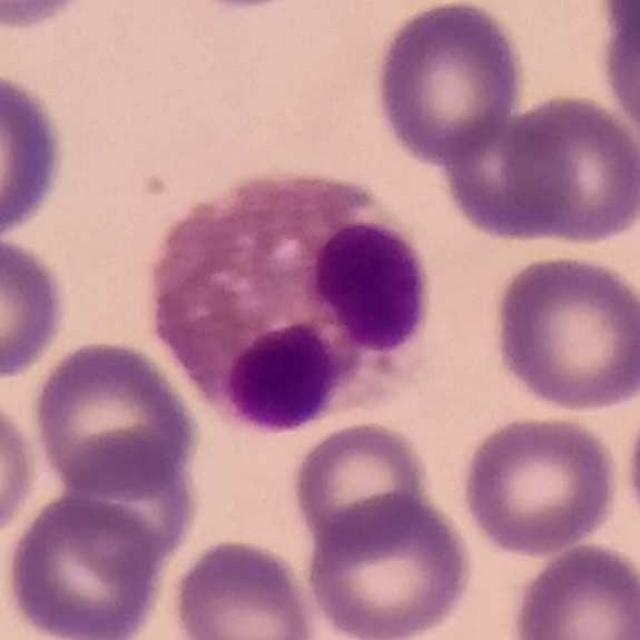Eosinophil: (146, 170, 428, 421)
RBC: (28, 335, 202, 500), (368, 0, 529, 167), (300, 489, 476, 640), (487, 249, 640, 416), (2, 489, 169, 640), (456, 411, 624, 558), (287, 416, 434, 556), (61, 432, 201, 575), (521, 95, 640, 253), (448, 110, 576, 240), (166, 534, 322, 640), (505, 538, 639, 640), (0, 64, 71, 245), (0, 231, 72, 384), (593, 0, 639, 152), (0, 392, 41, 545), (0, 0, 104, 35), (620, 386, 640, 546), (194, 0, 294, 10)
